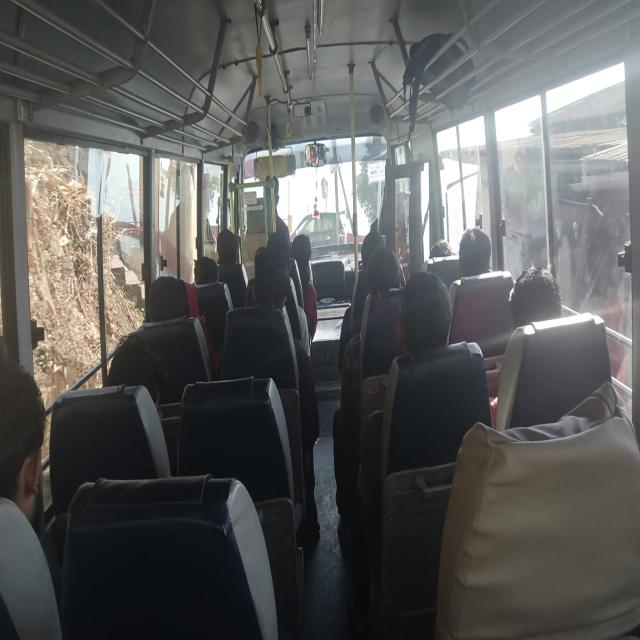person: (0, 350, 64, 530), (502, 259, 572, 339), (101, 325, 172, 402), (394, 266, 456, 352), (144, 265, 204, 330), (254, 250, 292, 314), (458, 227, 493, 289), (365, 243, 400, 302), (214, 221, 245, 280), (187, 247, 221, 289), (425, 228, 460, 268), (292, 227, 317, 271), (380, 176, 406, 217), (260, 172, 286, 212), (358, 228, 389, 258), (261, 230, 295, 255)
